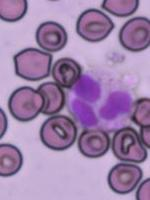N: (66, 68, 135, 132)
